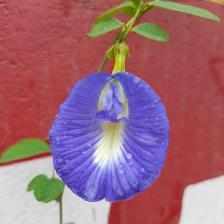shankupushpam: (48, 70, 174, 206)
